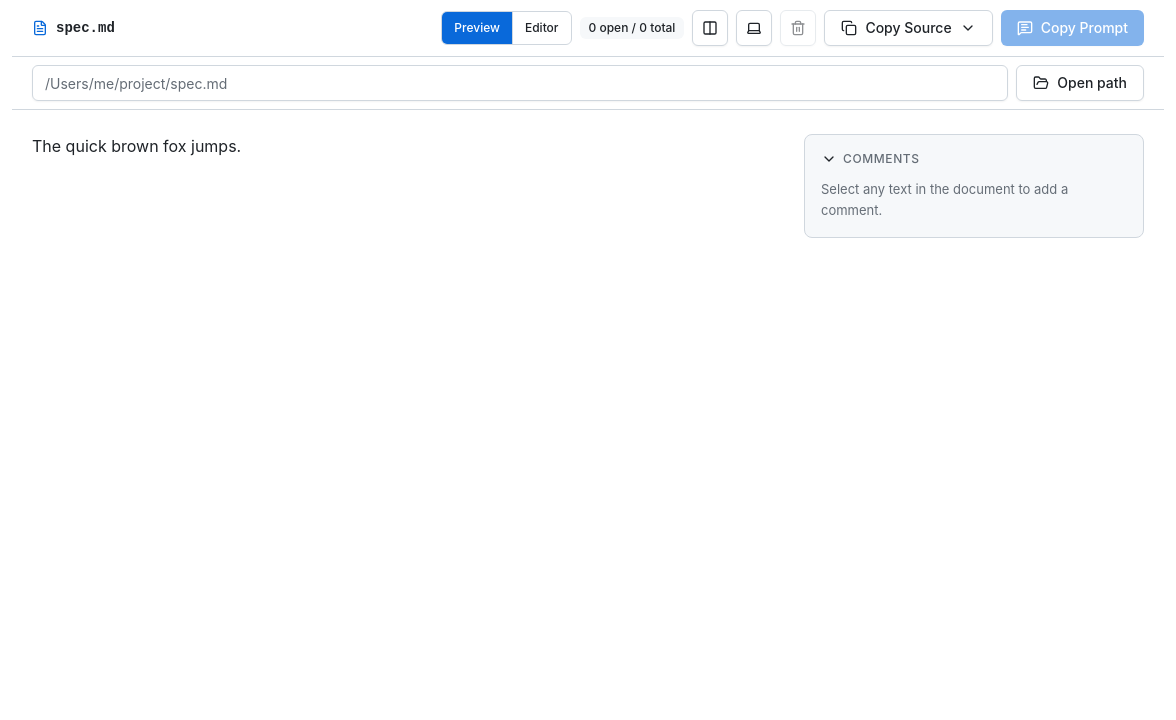
Test: App editor mode › switches to Editor mode and shows a textarea with the document content
expect the text "spec.md" is shown: met, box [56,18,115,38]
Click the button "Editor".
click(541, 28)  # box [512,12,570,44]
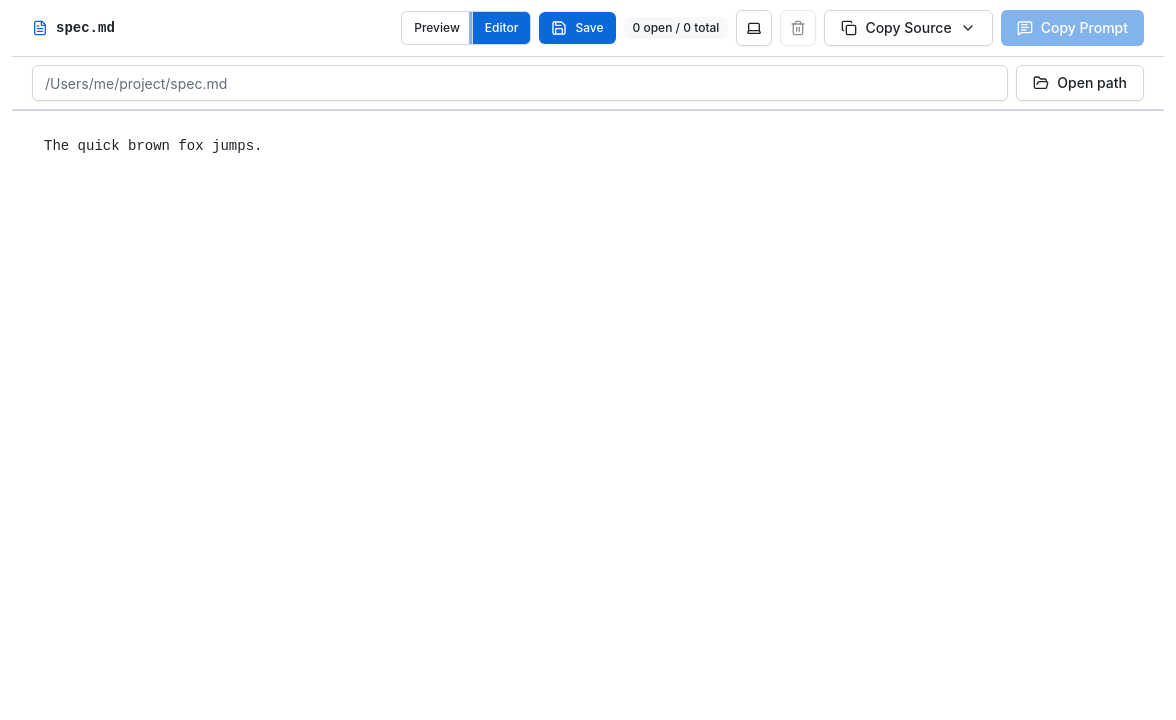
expect the text box with class "rmd-editor" is shown: met
expect the text box with class "rmd-editor" holds "The quick brown fox jumps.": met
expect the element with class "rmd-content" is gone: met
